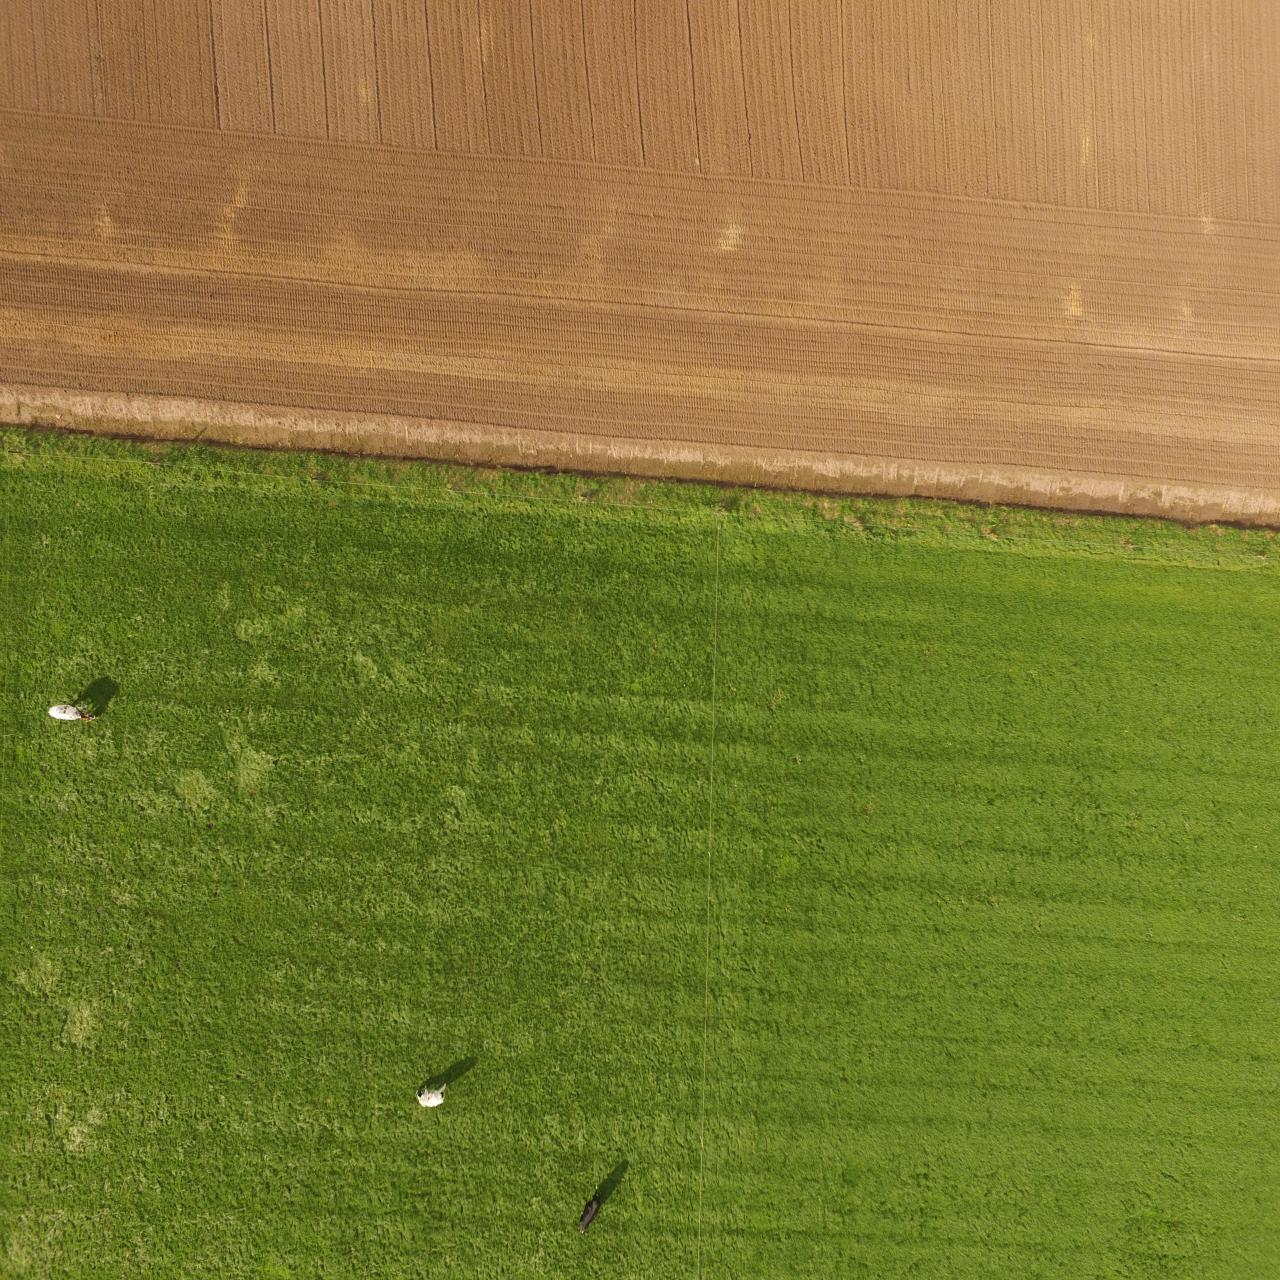cow: (411, 1075, 454, 1112), (576, 1188, 606, 1233), (46, 699, 94, 725)
